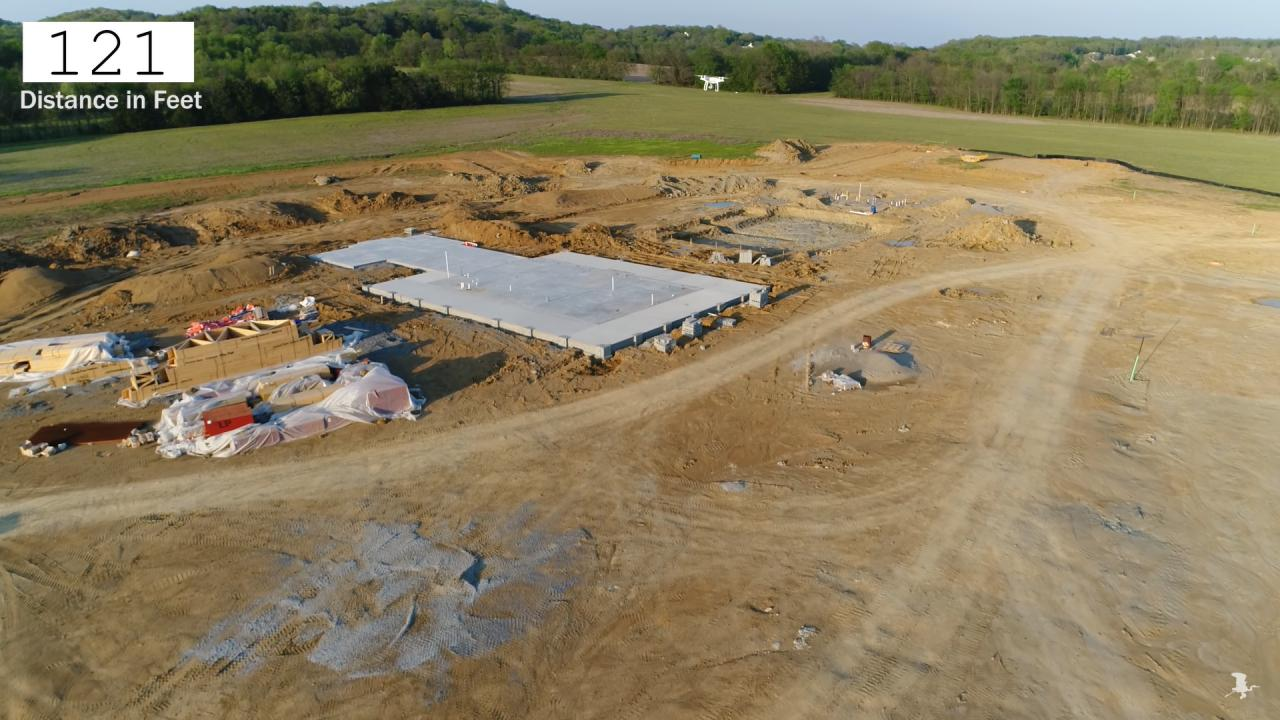Drone: (688, 66, 736, 100)
